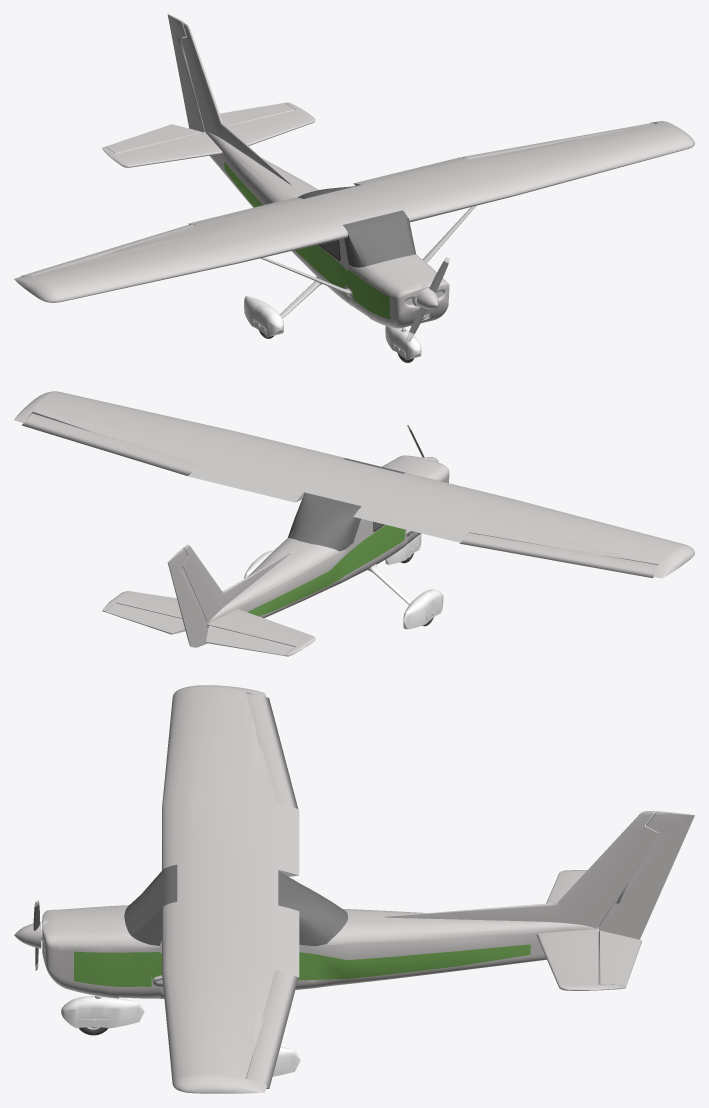
3 views of the same model, one above another, from view 1: azimuth 30°, elevation 25°; view 2: azimuth 150°, elevation 25°; view 3: azimuth 270°, elevation 25° (orthographic). The views are drawn at different scales.
Visible parts, largest first — view 1: Group_014, Cessna 152#1_001, Cessna 152 20 empennage_001, Glass, rudder, Group_005, elevatorR, elevatorL, Group_010, aileronR, aileronL, Prop; view 2: Group_014, Cessna 152#1_001, Cessna 152 20 empennage_001, Glass, aileronR, aileronL, rudder, Group_005, elevatorR, elevatorL, Group_010; view 3: Group_014, Cessna 152#1_001, Cessna 152 20 empennage_001, Glass, rudder, aileronL, aileronR, Group_010, elevatorL.
Part boxes in pixels (<box>): Group_014: <box>14,121,694,302</box>; Cessna 152#1_001: <box>205,132,449,328</box>; Cessna 152 20 empennage_001: <box>102,22,315,186</box>; Glass: <box>297,186,415,267</box>; rudder: <box>167,14,205,132</box>; Group_005: <box>244,276,322,337</box>; elevatorR: <box>105,124,201,153</box>; elevatorL: <box>220,103,294,126</box>; Group_010: <box>385,326,421,359</box>; aileronR: <box>20,224,195,276</box>; aileronL: <box>462,123,654,159</box>; Prop: <box>406,257,450,341</box>; Group_014: <box>14,391,694,578</box>; Cessna 152#1_001: <box>207,455,449,632</box>; Cessna 152 20 empennage_001: <box>102,544,315,656</box>; Glass: <box>288,458,405,551</box>; aileronR: <box>459,533,657,578</box>; aileronL: <box>22,413,198,475</box>; rudder: <box>167,548,207,647</box>; Group_005: <box>367,564,443,629</box>; elevatorR: <box>206,625,294,655</box>; elevatorL: <box>105,603,185,634</box>; Group_010: <box>385,534,421,564</box>; Group_014: <box>162,685,299,1093</box>; Cessna 152#1_001: <box>14,905,598,998</box>; Cessna 152 20 empennage_001: <box>377,811,688,990</box>; Glass: <box>124,864,347,946</box>; rudder: <box>598,811,694,939</box>; aileronL: <box>246,970,298,1088</box>; aileronR: <box>246,693,298,808</box>; Group_010: <box>61,995,144,1028</box>; elevatorL: <box>598,930,641,985</box>.
Bounding box in the file's own units: 9.12 × 2.36 × 6.52.
